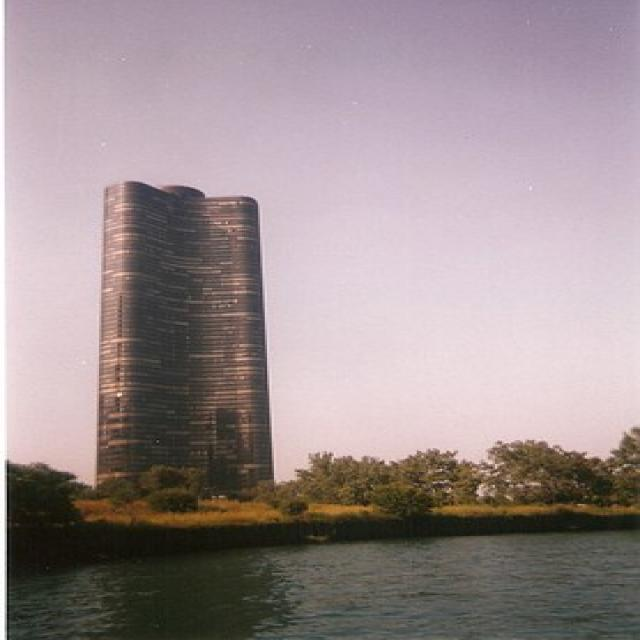Normal_building: (87, 176, 281, 522)
